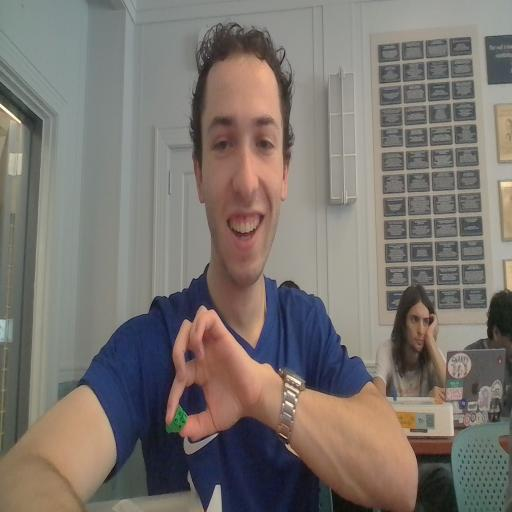green LEGO minifig: (162, 401, 190, 439)
